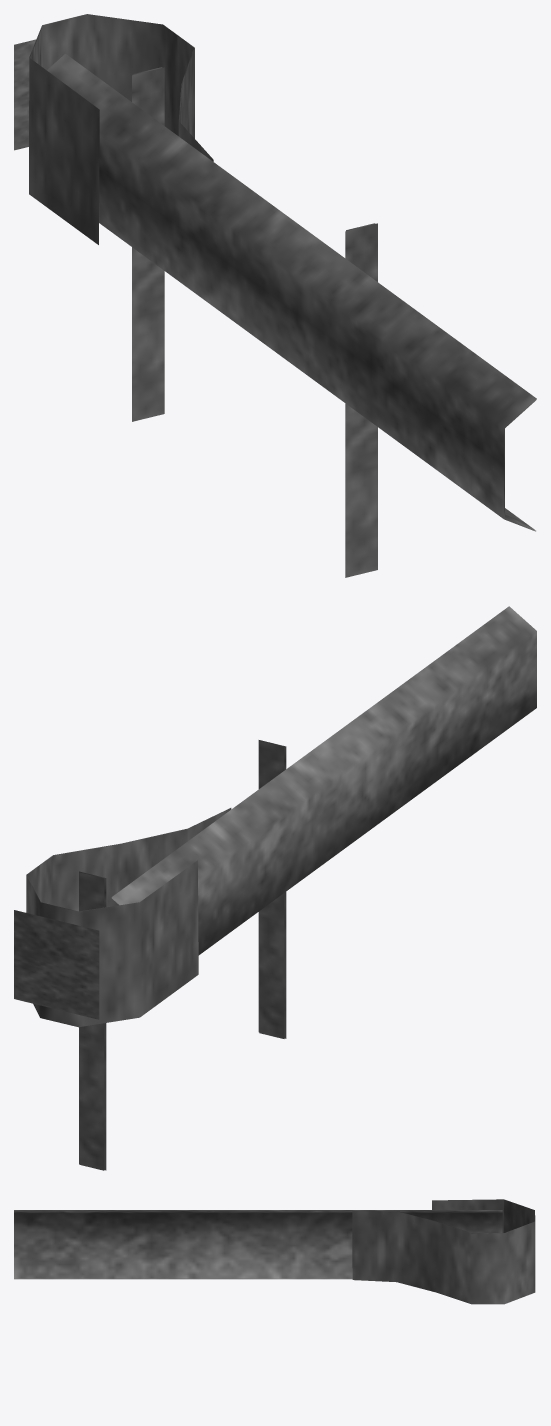
Rendered from swb-end-2_lod.fbx.
3 views of the same model, one above another, from view 1: azimuth 30°, elevation 25°; view 2: azimuth 150°, elevation 25°; view 3: azimuth 270°, elevation 25° (orthographic). The views are drawn at different scales.
Parts seen in each view (by area): view 1: swb-end-2-lod; view 2: swb-end-2-lod; view 3: swb-end-2-lod.
Part boxes in pixels (x1,y1,x2,y2): swb-end-2-lod: [14, 14, 536, 577]; swb-end-2-lod: [14, 606, 536, 1170]; swb-end-2-lod: [14, 1199, 535, 1304].
Size of the model in its own units: 32.91 by 83.94 by 214.
